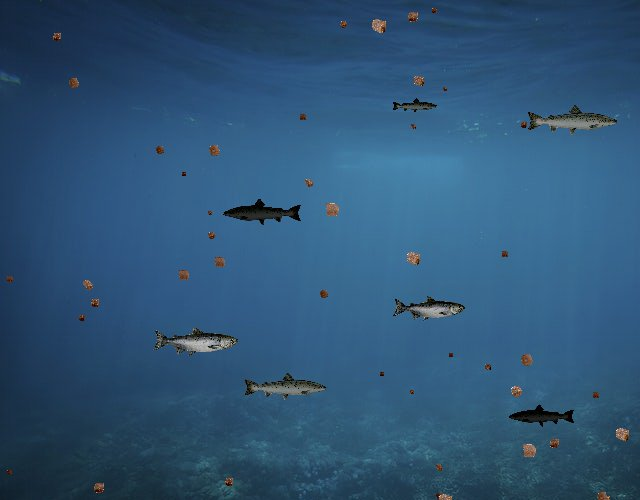Fish: (526, 104, 620, 138), (242, 371, 328, 402), (152, 326, 238, 357), (222, 198, 303, 227), (393, 295, 466, 321), (509, 404, 577, 428), (392, 97, 439, 114)
Pellet: (514, 347, 540, 373), (504, 379, 529, 404), (76, 274, 98, 296), (480, 360, 494, 374), (516, 118, 530, 132), (428, 5, 441, 18), (204, 208, 214, 218)
